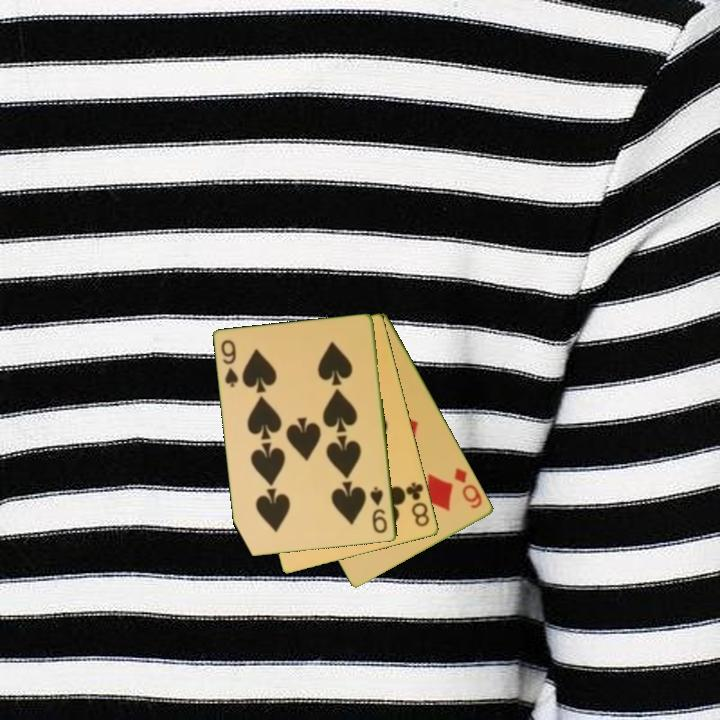6d: (451, 464, 486, 512)
8c: (402, 479, 433, 530)
9s: (218, 336, 241, 390), (367, 484, 390, 536)
